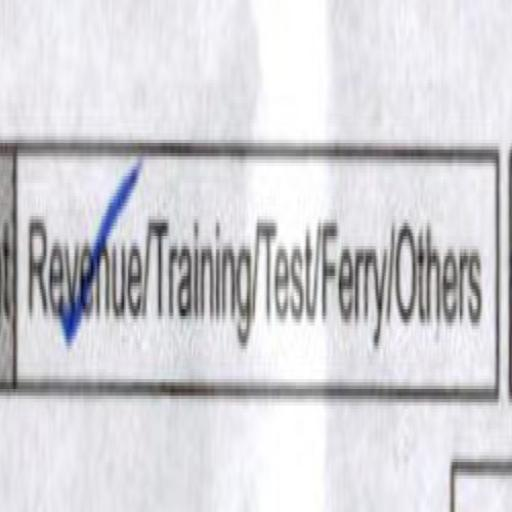check: (22, 94, 148, 439)
